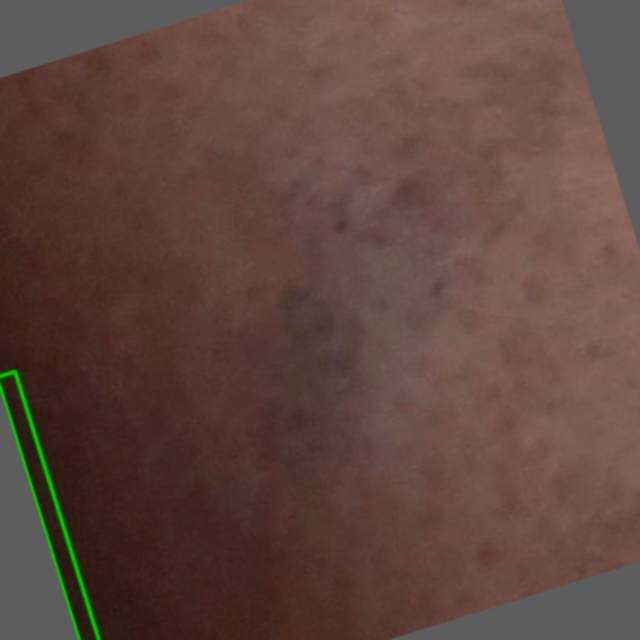Eczema: (0, 371, 98, 639)
